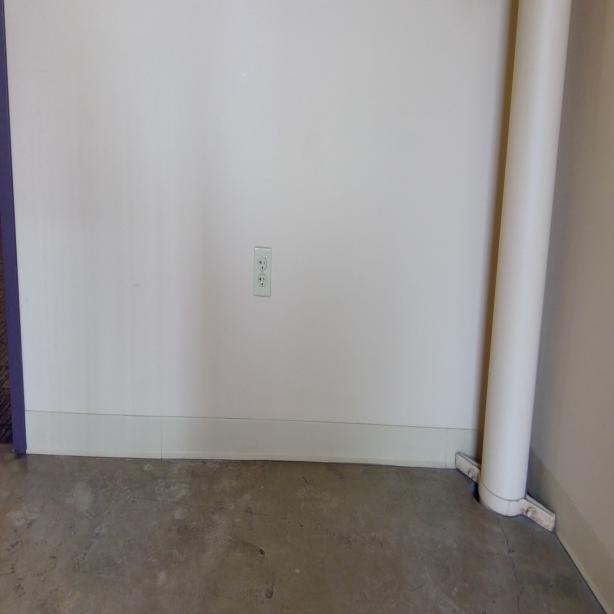typeb: (258, 274, 268, 286), (257, 258, 267, 269)
